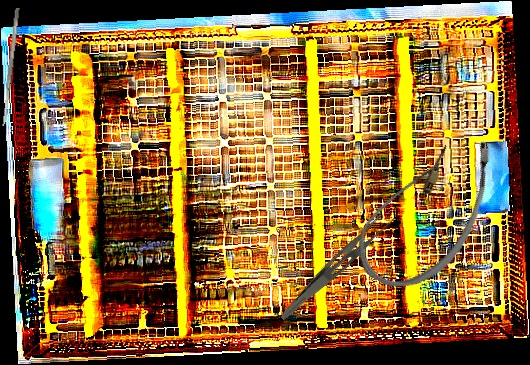Cannula: (344, 110, 512, 309)
Dressing Forceps: (278, 204, 398, 332)
Spatula Surgical: (0, 7, 21, 127)
